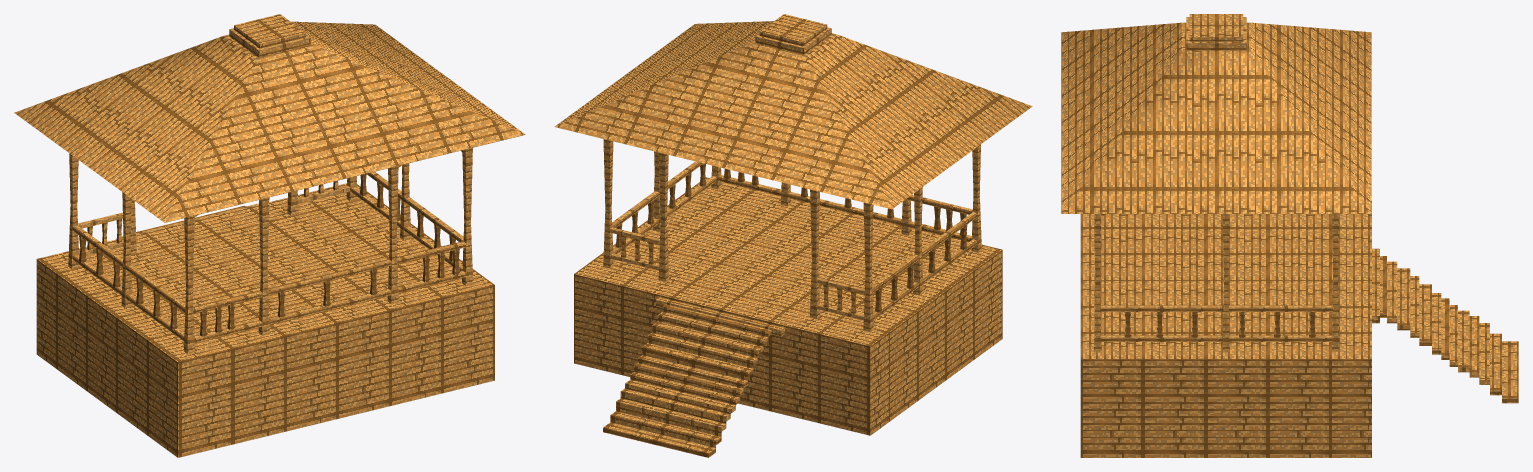
File: BLOCKYGON_GAZBO.fbx
3 renders of one model, left to right at view 1: azimuth 30°, elevation 25°; view 2: azimuth 150°, elevation 25°; view 3: azimuth 270°, elevation 25°, orthographic. The views are drawn at different scales.
Parts seen in each view (by area): view 1: BLOCKYGON_GAZBO; view 2: BLOCKYGON_GAZBO; view 3: BLOCKYGON_GAZBO.
Boxes of the visible parts, x1,y1,x2,y2 form: BLOCKYGON_GAZBO: (14, 14, 525, 457); BLOCKYGON_GAZBO: (554, 14, 1032, 457); BLOCKYGON_GAZBO: (1061, 14, 1518, 457).
Bounding box in the file's own units: 689 × 624 × 733.
1 material, 1 textured.
